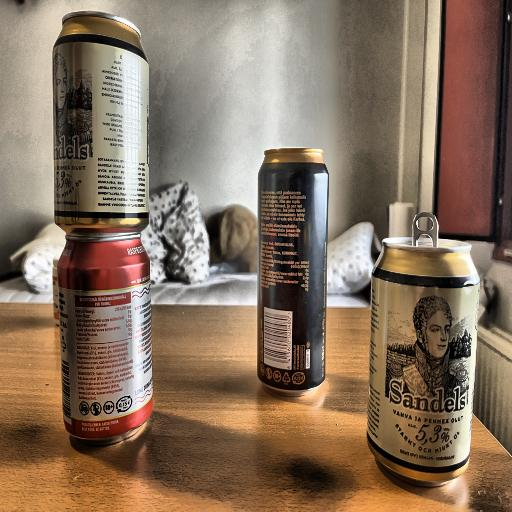karhu: (253, 149, 334, 399)
koff: (44, 236, 161, 449)
sandels: (360, 228, 496, 496), (38, 10, 158, 232)
